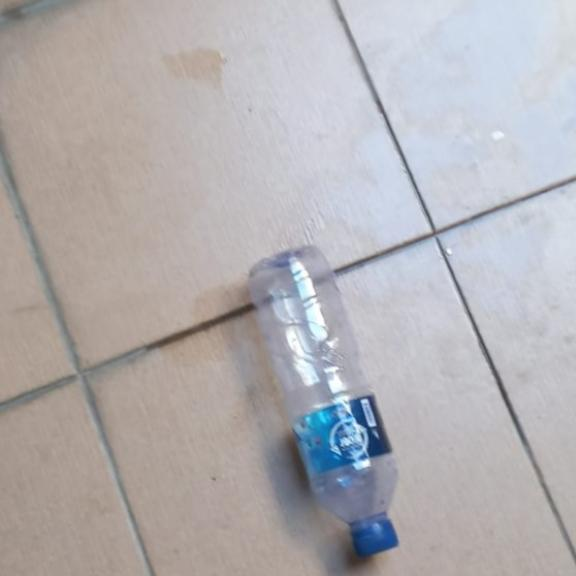Plastik: (247, 245, 399, 559)
